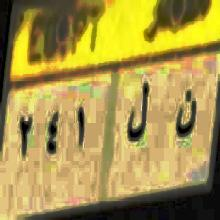1: (72, 94, 88, 152)
2: (18, 101, 34, 159)
4: (40, 102, 60, 162)
laam: (127, 74, 152, 149)
noon: (172, 86, 197, 145)
